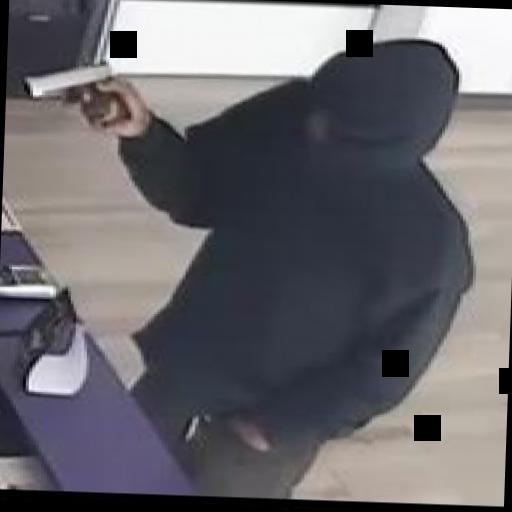Handgun: (20, 56, 126, 126)
